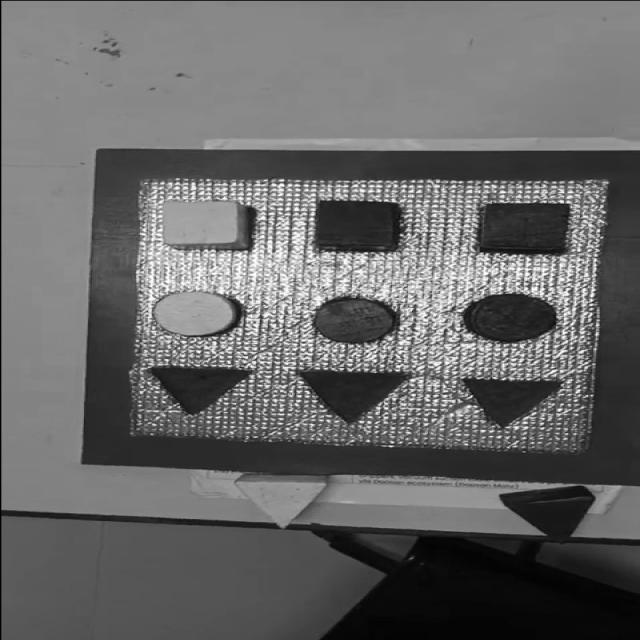bcircle: (464, 294, 558, 342)
bcube: (478, 202, 570, 254)
mttriangle: (296, 368, 410, 424), (460, 377, 564, 429), (148, 366, 249, 414)
rcircle: (310, 297, 399, 344)
rcube: (314, 200, 399, 251)
rtriangle: (498, 484, 599, 542)
wb: (123, 179, 608, 453)
ycircle: (150, 290, 240, 338)
ycube: (159, 199, 253, 251)
ytriangle: (232, 472, 328, 529)
